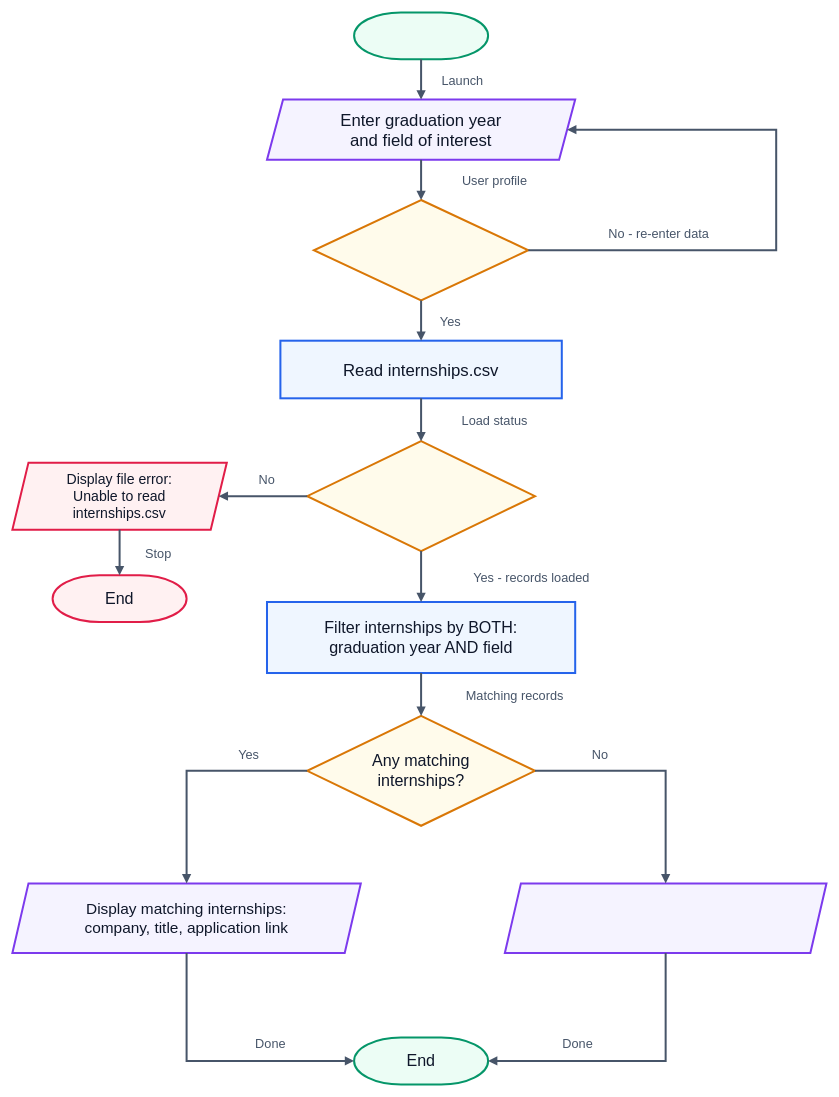
This 839x1097 diagram has some shape labels left out. The shapes that lost their labels are listed below. From the top down, each one's centre as x and y in pixels, then its label:
point 421,35: Start: main()
point 421,250: Valid input?
point 421,496: CSV loaded successfully?
point 665,918: Display message: "No matching internships found"
